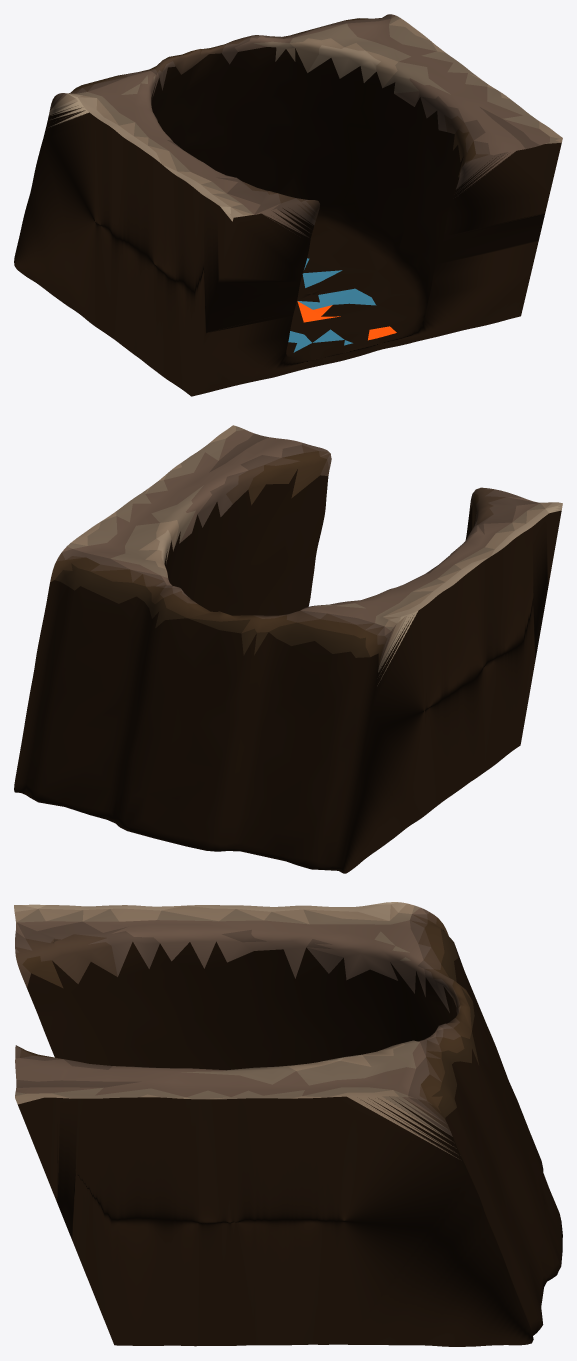
File: drill_rig_tm.glb
3 views of the same model, one above another, from view 1: azimuth 30°, elevation 25°; view 2: azimuth 150°, elevation 25°; view 3: azimuth 270°, elevation 25° (orthographic). The views are drawn at different scales.
Parts seen in each view (by area): view 1: drill_rig_tm; view 2: drill_rig_tm; view 3: drill_rig_tm.
Part boxes in pixels (box(x1,y1,x2,y2)): drill_rig_tm: box(14, 14, 562, 396); drill_rig_tm: box(14, 425, 562, 873); drill_rig_tm: box(14, 902, 562, 1346).
Bounding box in the file's own units: 24 × 14.97 × 29.25.
